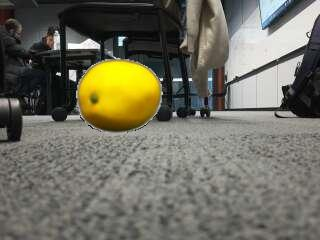lemon: (81, 62, 162, 132)
